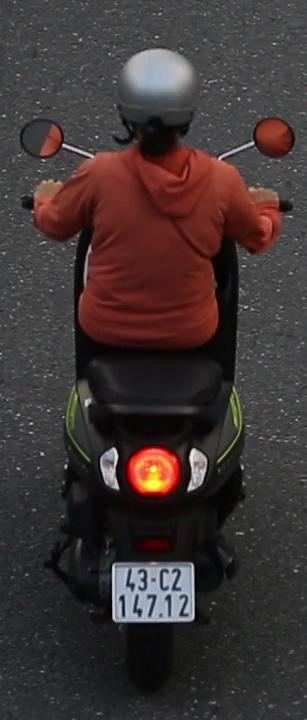LP: (111, 557, 200, 633)
helmet: (111, 42, 205, 163)
